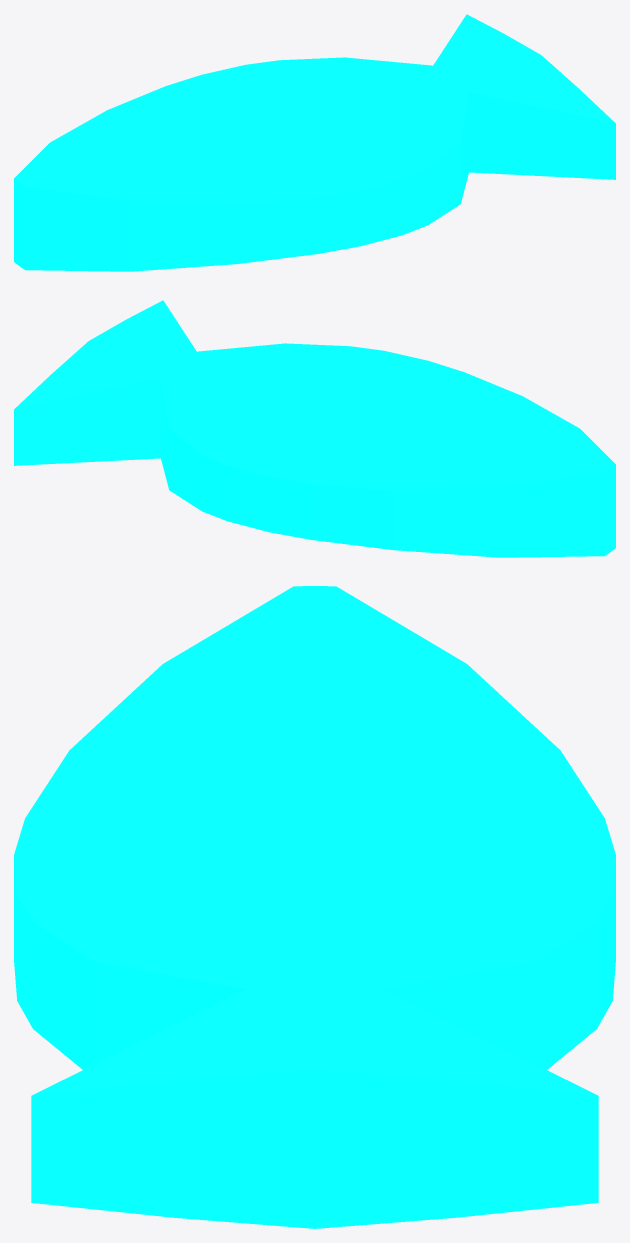
The model's file is MartianFish.fbx.
3 renders of one model, top to bottom at view 1: azimuth 30°, elevation 25°; view 2: azimuth 150°, elevation 25°; view 3: azimuth 270°, elevation 25°, orthographic. The views are drawn at different scales.
Visible parts, largest first — view 1: MartianFish; view 2: MartianFish; view 3: MartianFish.
Boxes of the visible parts, x1,y1,x2,y2 form: MartianFish: [14, 14, 615, 271]; MartianFish: [14, 300, 615, 557]; MartianFish: [14, 586, 615, 1228].
Bounding box in the file's own units: 46.73 × 24.58 × 7.18.
